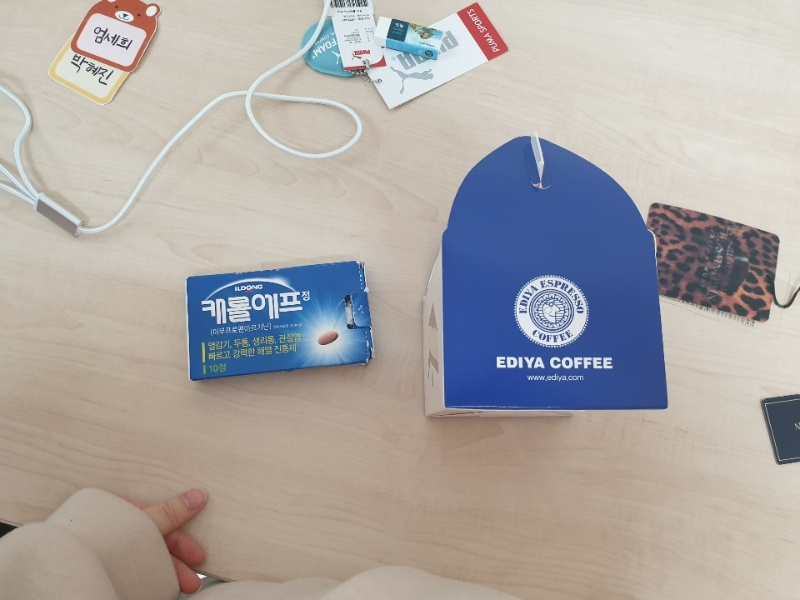carolF: (186, 262, 371, 381)
